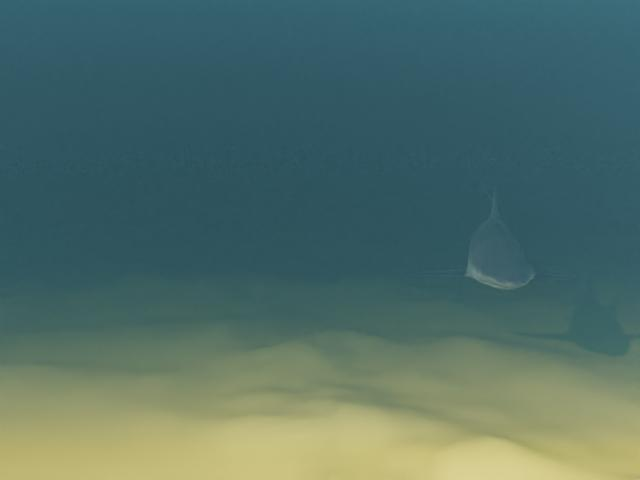Carribean Shark.001: (404, 178, 583, 289)
